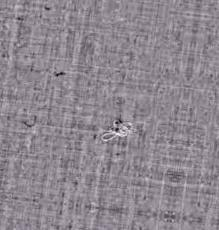snag: (97, 116, 137, 147)
